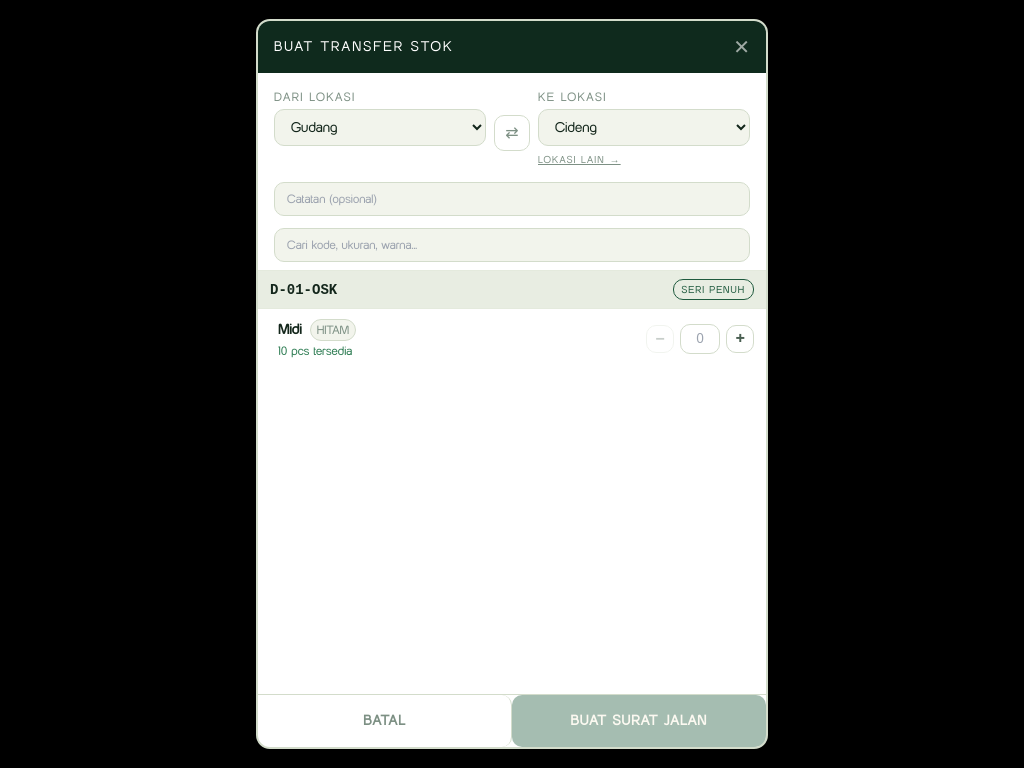
Test: TransferForm › submit error: menampilkan pesan error
Click the button "+" at (740, 339), box [726, 325, 754, 353]
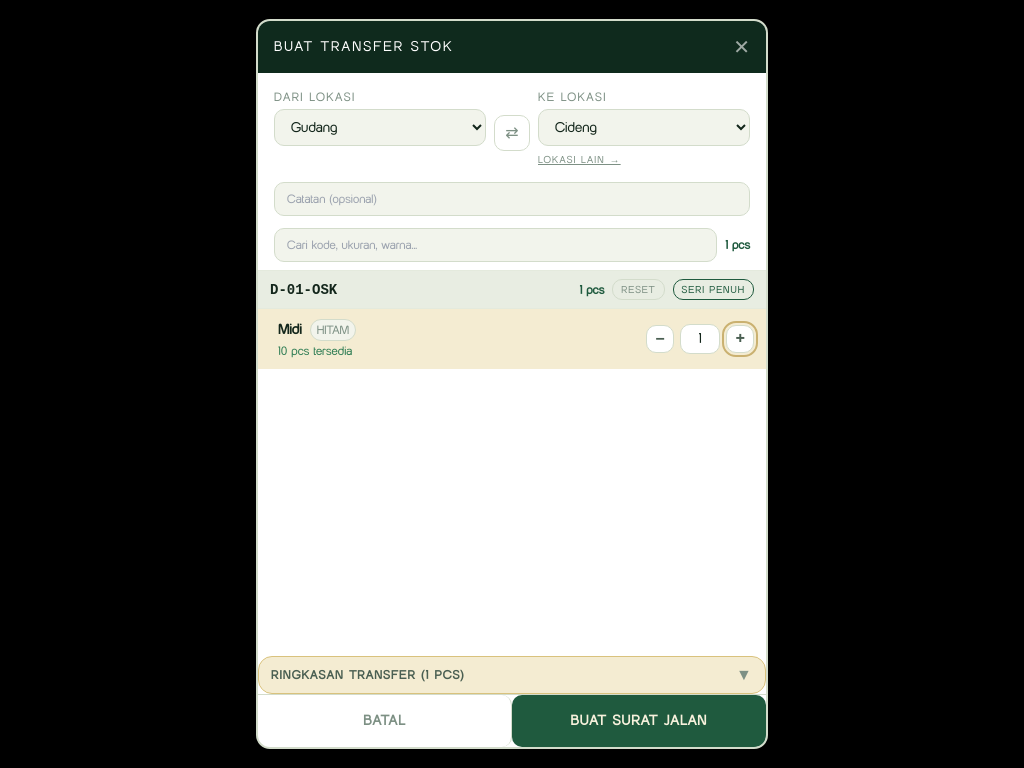
Click the button "Buat Surat Jalan" at (639, 721), box [512, 695, 766, 747]
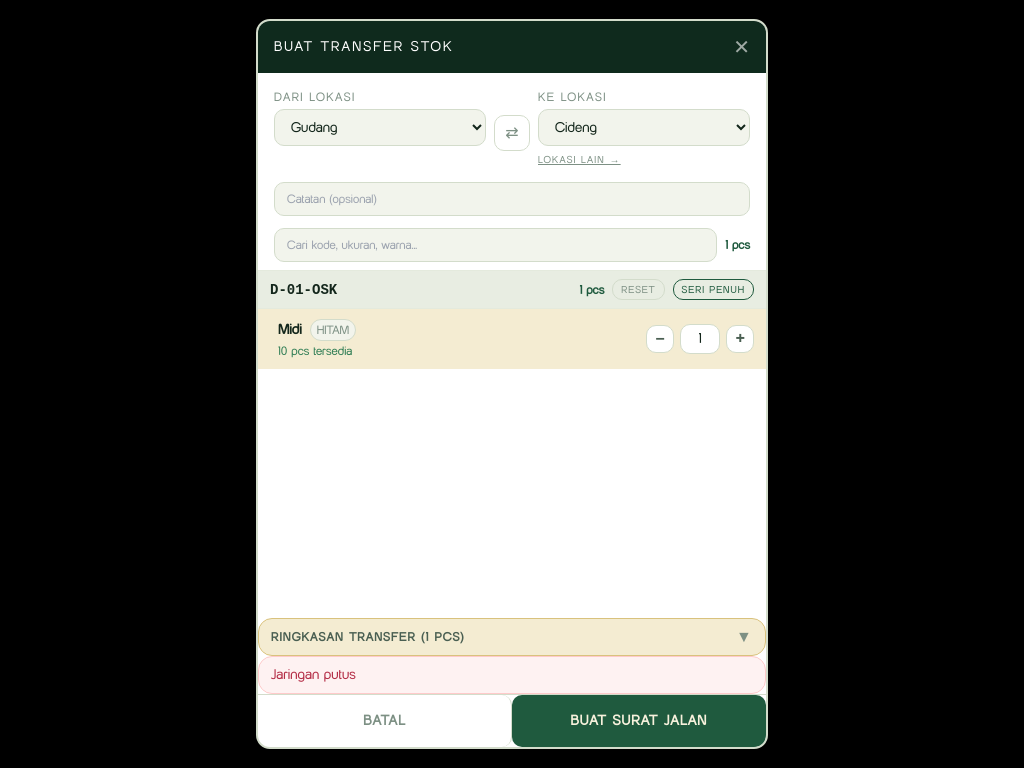
Expected: the text "Jaringan putus" is shown, [258, 656, 766, 694]
